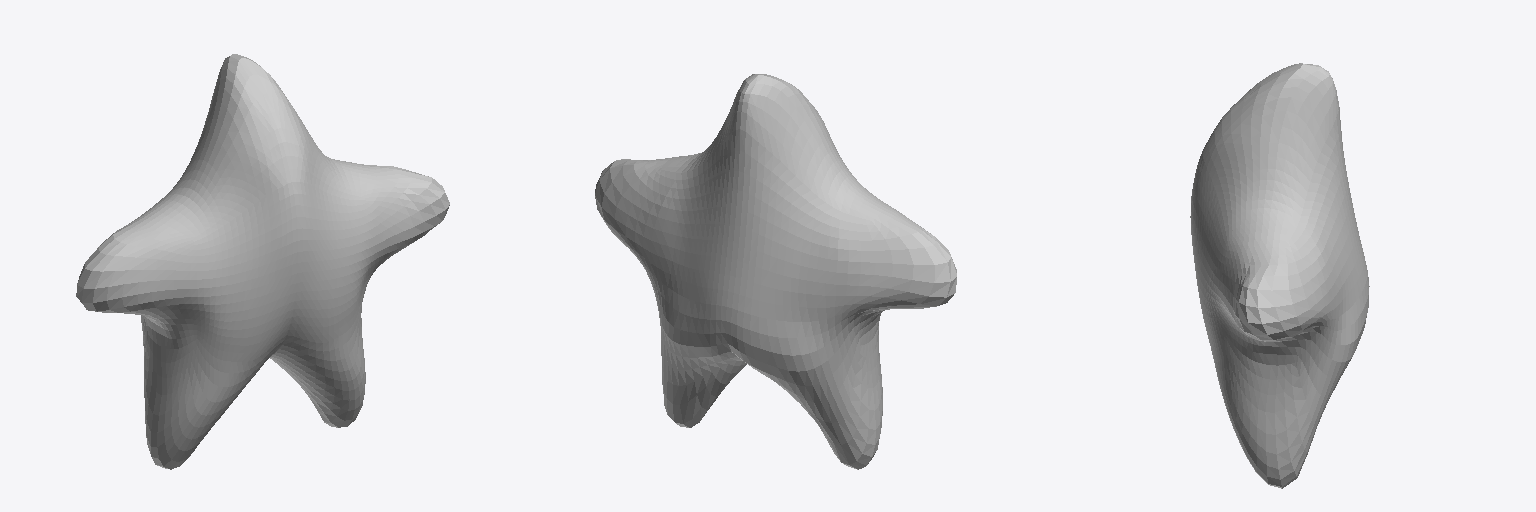
Rendered from Celarus.obj.
3 renders of one model, left to right at view 1: azimuth 30°, elevation 25°; view 2: azimuth 150°, elevation 25°; view 3: azimuth 270°, elevation 25°, orthographic.
Visible parts, largest first — view 1: Cube_Cube.001; view 2: Cube_Cube.001; view 3: Cube_Cube.001.
Boxes of the visible parts, box(x1,y1,x2,y2) form: Cube_Cube.001: box(76, 54, 449, 469); Cube_Cube.001: box(595, 74, 956, 469); Cube_Cube.001: box(1190, 63, 1369, 488).
Size of the model in its own units: 3.55 by 3.57 by 1.52.